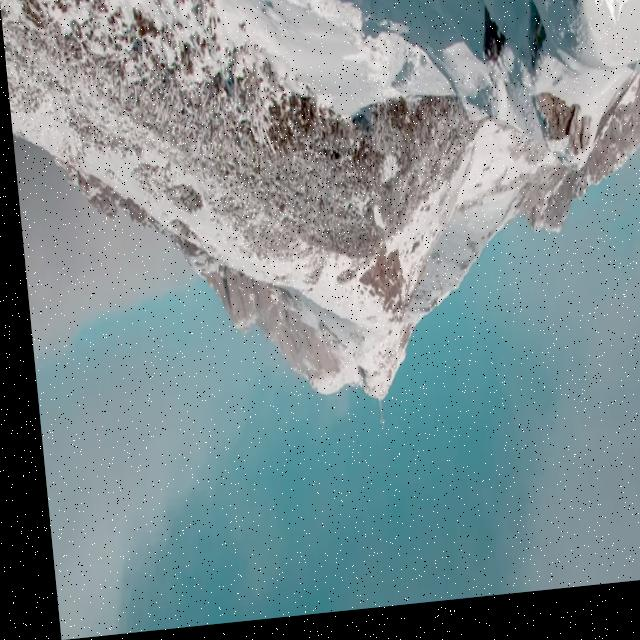Giewont: (264, 248, 496, 553)
